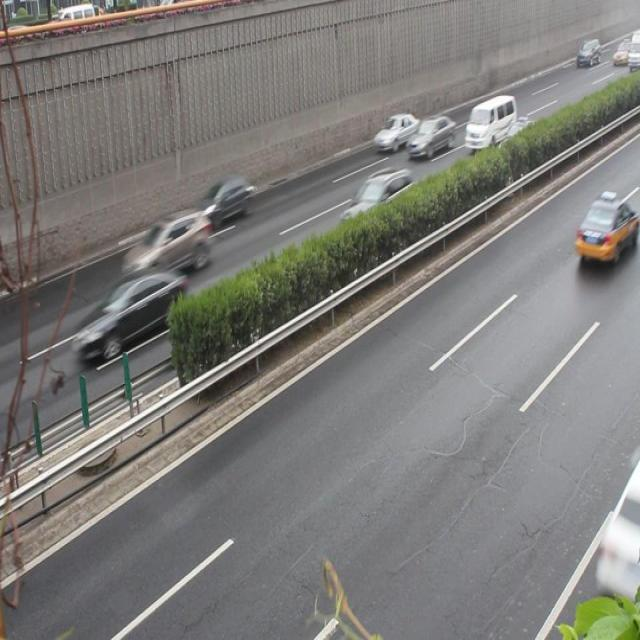car: (74, 266, 185, 362), (122, 205, 208, 281), (337, 165, 412, 236), (574, 193, 640, 267), (194, 177, 251, 228), (406, 114, 454, 163), (494, 120, 538, 164), (372, 113, 418, 155)
truck: (464, 94, 515, 150)
